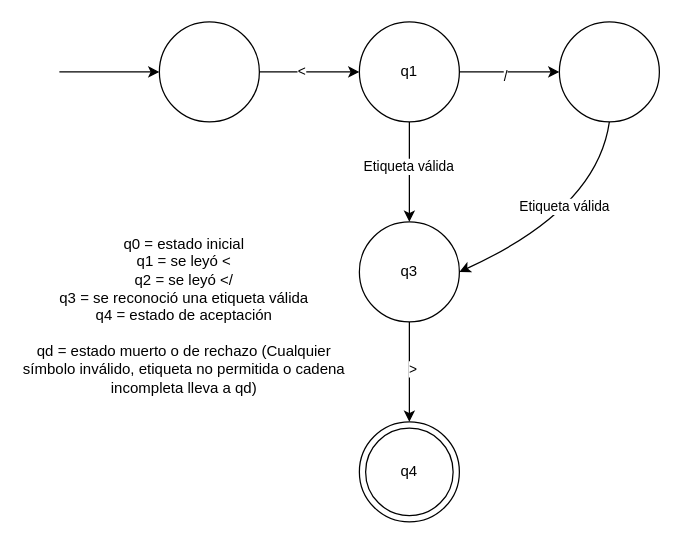
Some shapes in this 681 by 544 pixel diagram are drawn without their labels. The shapes that lost their labels are listed below. From the top down, each one's box as (x1, y1, x2, y2) in pixels, then its label:
(158, 21, 259, 122): q0
(558, 21, 659, 122): q2
